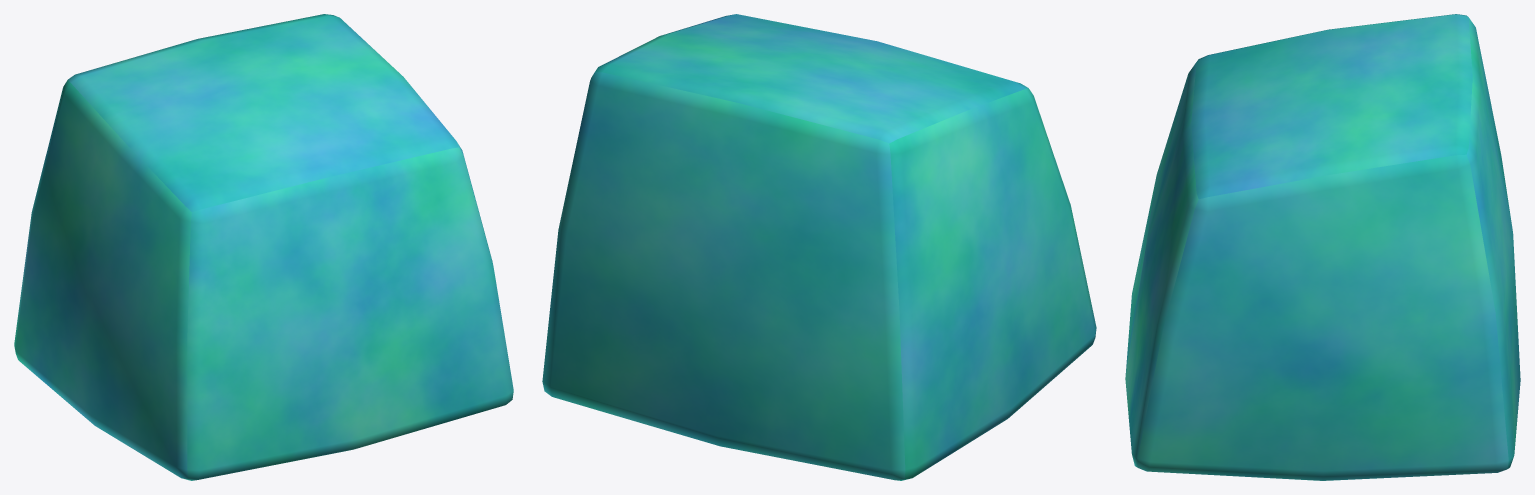
File: IceCube.fbx
3 views of the same model, side by side, from view 1: azimuth 30°, elevation 25°; view 2: azimuth 150°, elevation 25°; view 3: azimuth 270°, elevation 25° (orthographic). The views are drawn at different scales.
Parts seen in each view (by area): view 1: IceCube; view 2: IceCube; view 3: IceCube.
Part boxes in pixels (<box>): IceCube: <box>14,14,513,480</box>; IceCube: <box>542,14,1096,480</box>; IceCube: <box>1125,14,1520,480</box>.
Size of the model in its own units: 176 by 153 by 162.
Materials: 1 (1 with a texture image).
